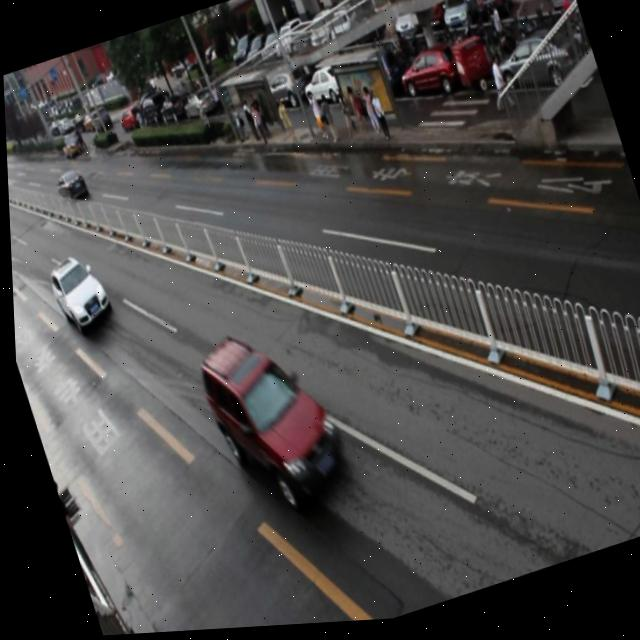car: (187, 317, 350, 530), (42, 248, 111, 335), (52, 168, 89, 208)
